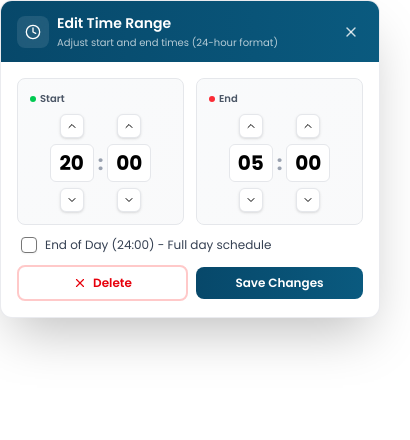
Test: CustomTimePicker › save with end < start shows the cannot-cross-midnight error
The width and height of the screenshot is (410, 440).
Click the button "Save Changes".
click(280, 283)  # box x1=196 y1=267 x2=363 y2=299
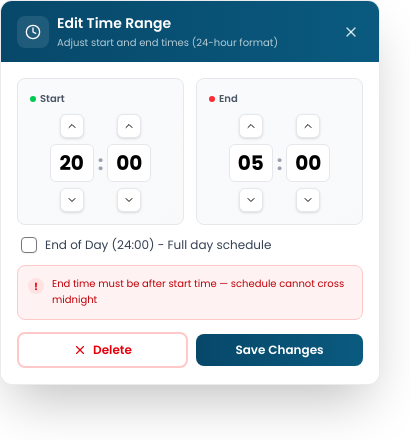
Expected: the text "cannot cross midnight" is shown, x1=52 y1=276 x2=344 y2=307
